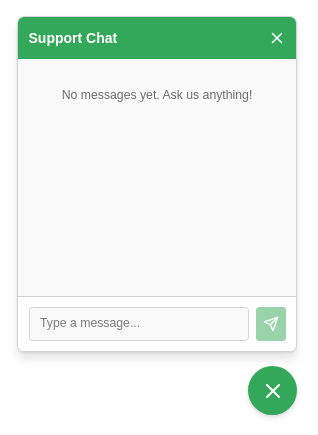
ChatBox.vue › sends a message
The width and height of the screenshot is (318, 435).
In the field with placeholder "Type a message...": x=138, y=324 [28,307,248,340], type "Hello"
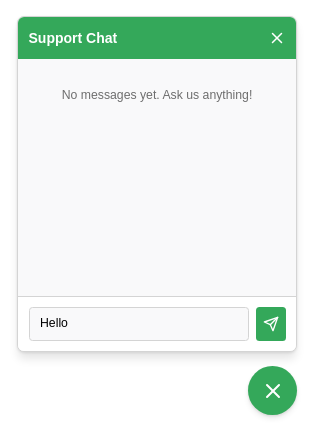
Submit the form, box [28,307,286,340]
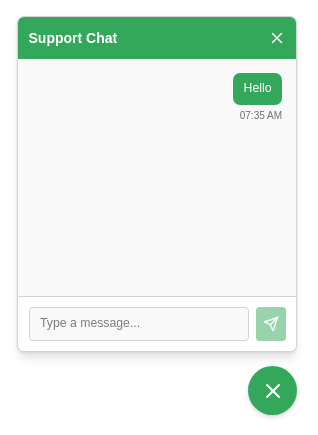
Check: the text "Hello" is shown, box [233,73,282,104]
